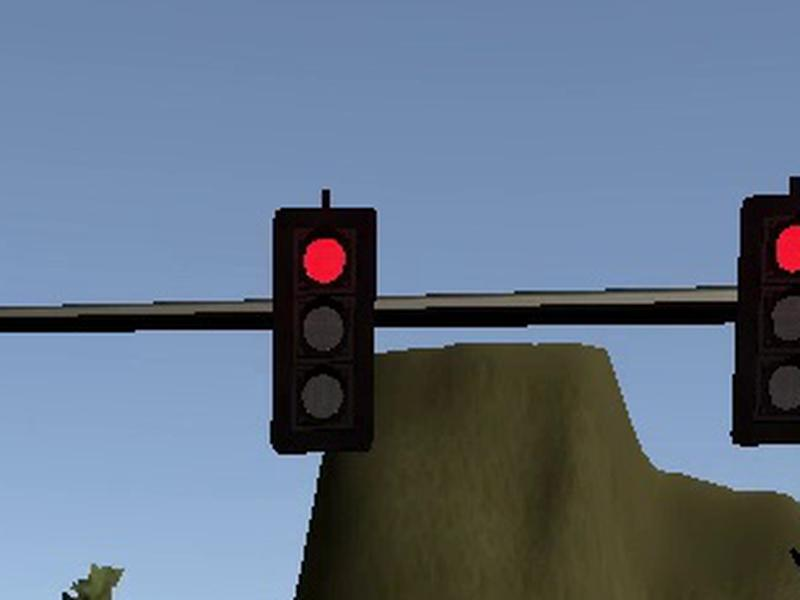Red: (269, 207, 377, 456), (730, 193, 800, 446)
